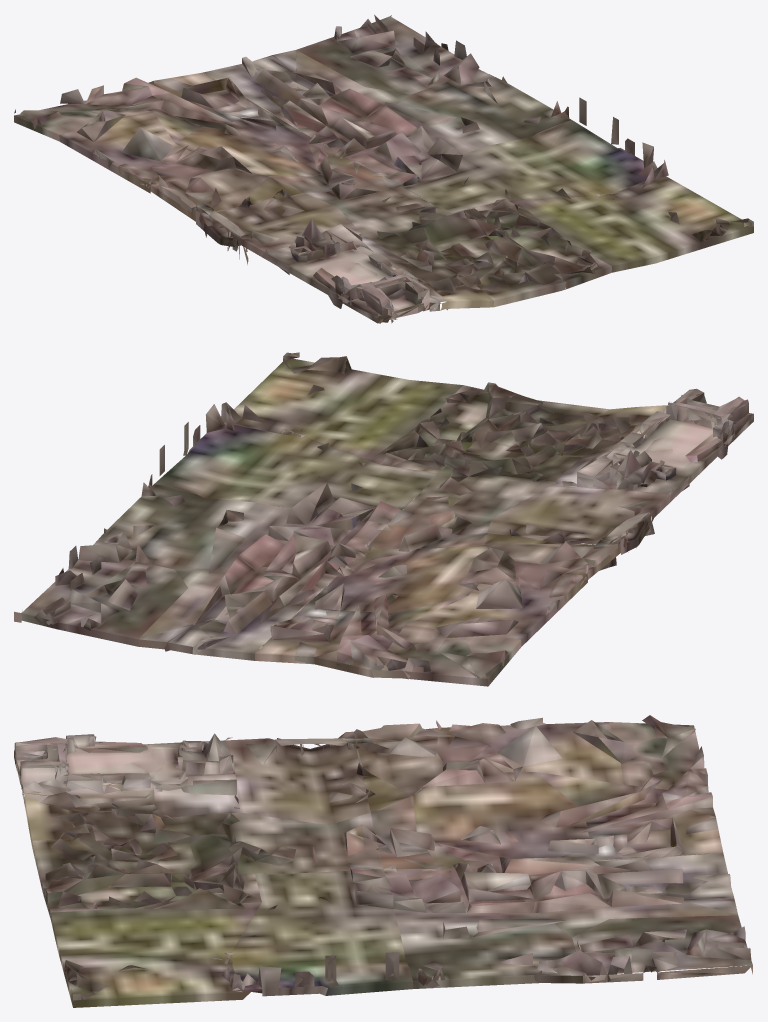
The picture shows the model from 3 angles, top to bottom: view 1: azimuth 30°, elevation 25°; view 2: azimuth 150°, elevation 25°; view 3: azimuth 270°, elevation 25°; orthographic projection. The views are drawn at different scales.
Visible parts, largest first — view 1: Mesh_0; view 2: Mesh_0; view 3: Mesh_0.
Part boxes in pixels (x1,y1,x2,y2): Mesh_0: [14, 14, 753, 323]; Mesh_0: [14, 352, 753, 686]; Mesh_0: [14, 715, 752, 1007].
Bounding box in the file's own units: 1065 × 139 × 1319.
2 materials, 2 textured.
